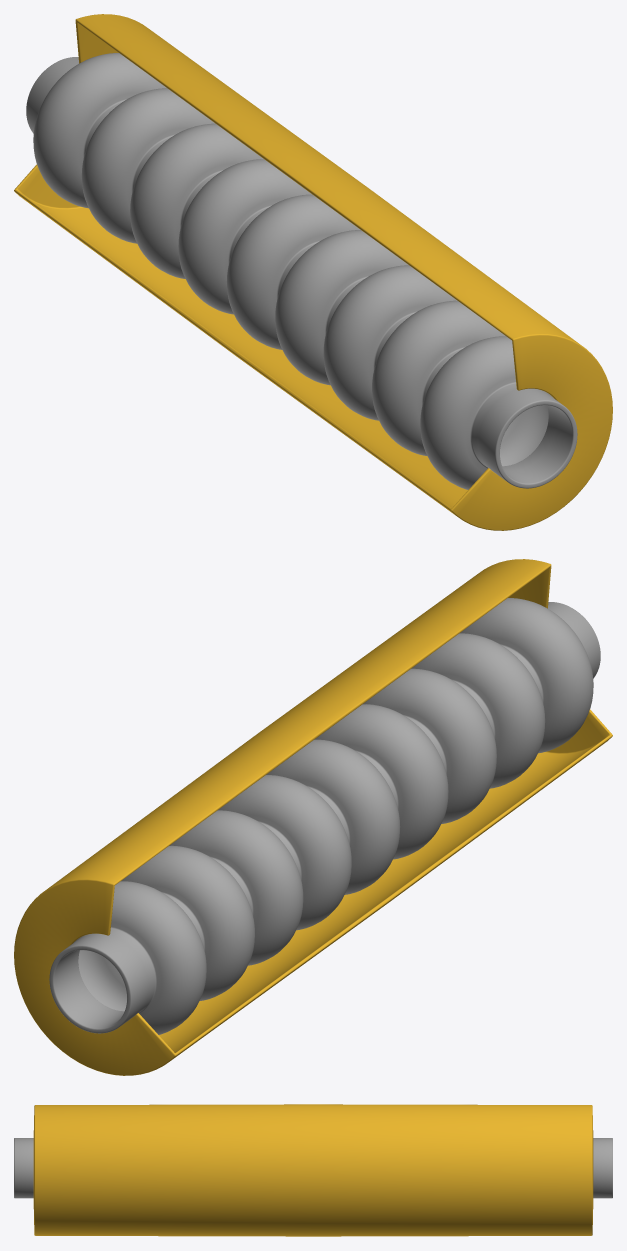
File: Cavity.glb
3 renders of one model, top to bottom at view 1: azimuth 30°, elevation 25°; view 2: azimuth 150°, elevation 25°; view 3: azimuth 270°, elevation 25°, orthographic. The views are drawn at different scales.
Parts seen in each view (by area): view 1: TorusCore, TorusShell; view 2: TorusCore, TorusShell; view 3: TorusShell, TorusCore.
Boxes of the visible parts, box(x1,y1,x2,y2) form: TorusCore: box(26, 53, 577, 489); TorusShell: box(14, 14, 612, 530); TorusCore: box(49, 598, 600, 1034); TorusShell: box(14, 559, 612, 1075); TorusShell: box(33, 1104, 593, 1236); TorusCore: box(14, 1138, 612, 1198).
Bounding box in the file's own units: 1.4 × 1.58 × 6.92.
